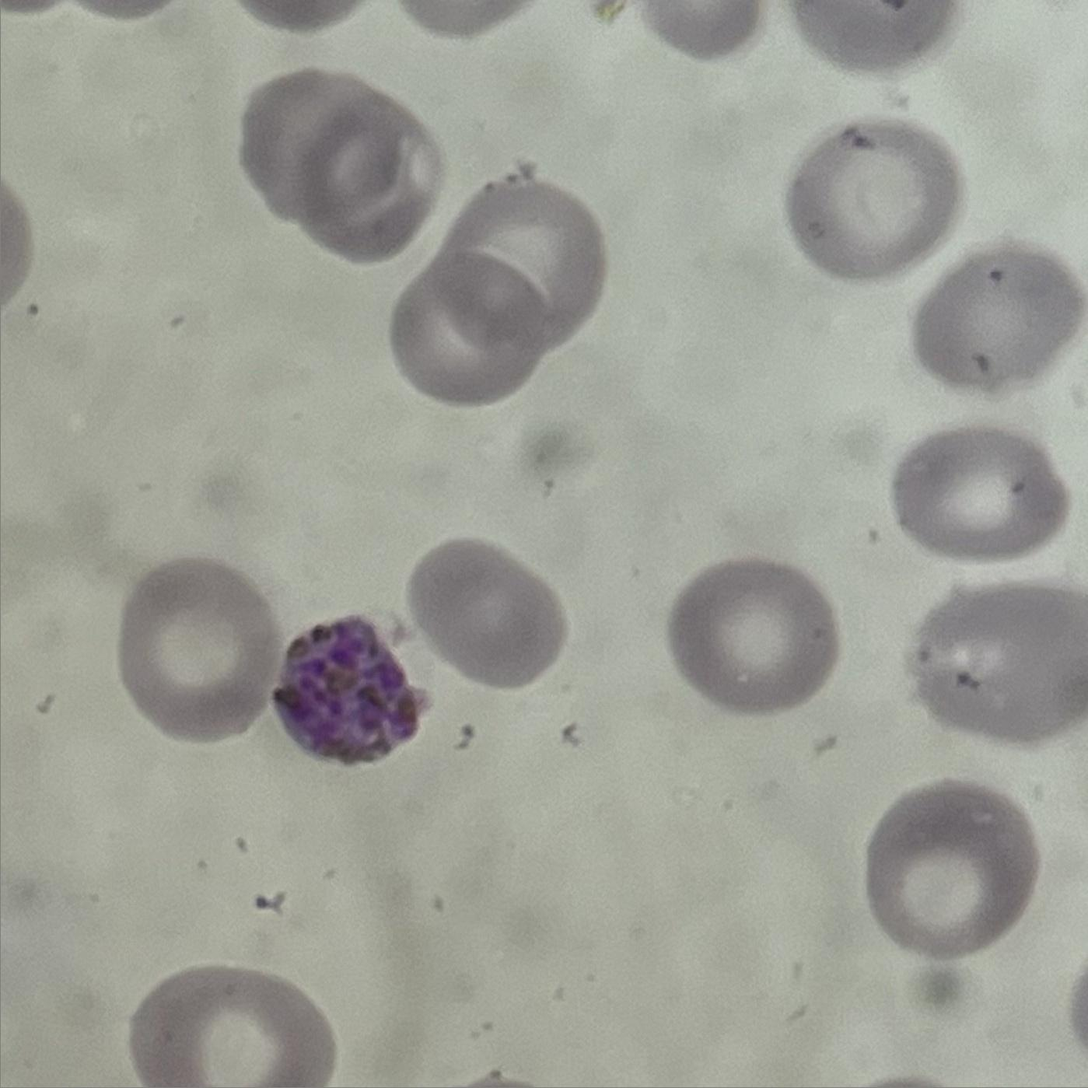Infected: (280, 618, 417, 758)
Uninfected: (114, 561, 289, 741), (441, 167, 603, 357), (913, 579, 1088, 751), (863, 781, 1033, 954), (785, 115, 957, 279), (669, 550, 835, 713), (407, 532, 570, 696), (889, 421, 1071, 566), (119, 963, 330, 1088), (912, 239, 1082, 392), (389, 257, 551, 407), (246, 63, 394, 222), (301, 97, 437, 262)
